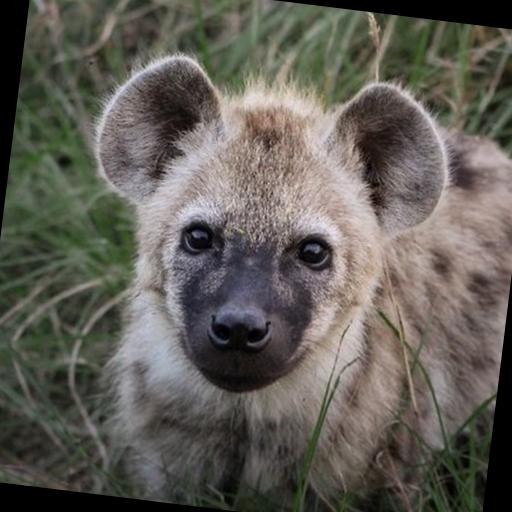hyenas: (4, 27, 512, 512)
